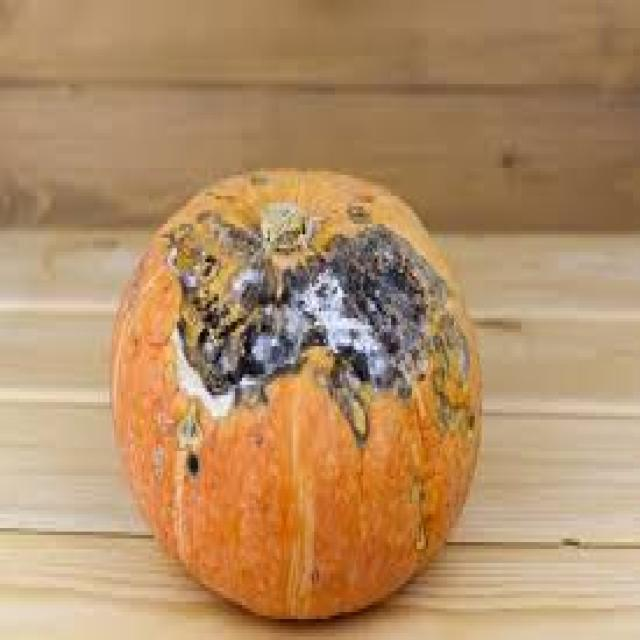food_waste: (112, 168, 479, 616)
